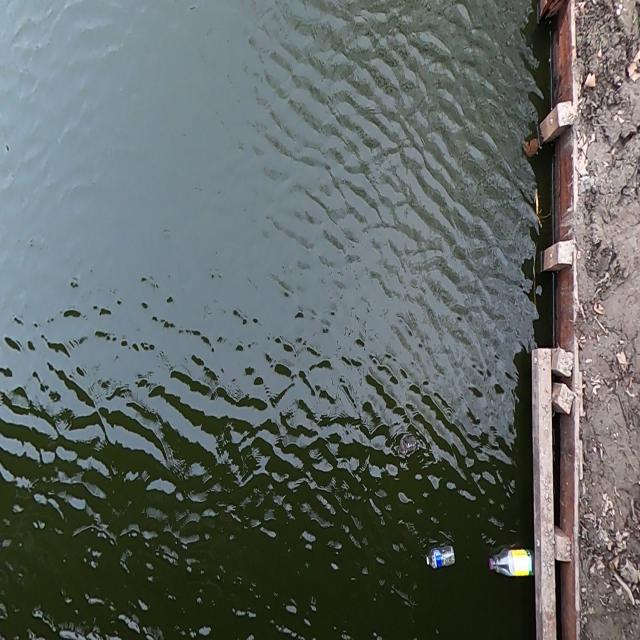Bouteille plastique: (486, 544, 537, 584), (423, 540, 457, 579)
